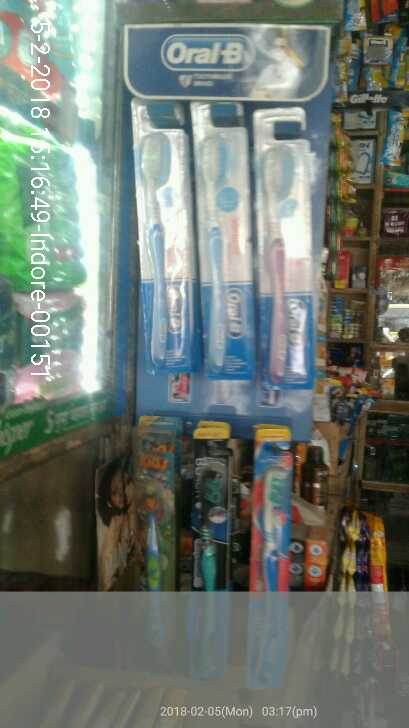oralb: (133, 105, 197, 379), (259, 114, 321, 384), (197, 114, 257, 378)
